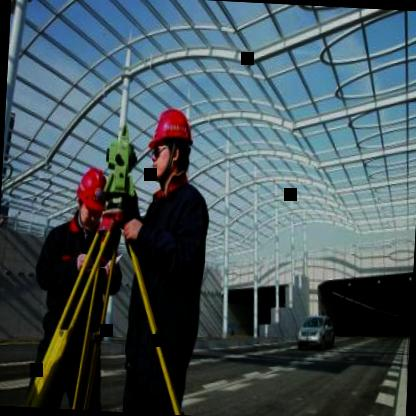helmet: (144, 103, 197, 188), (72, 166, 109, 228)
